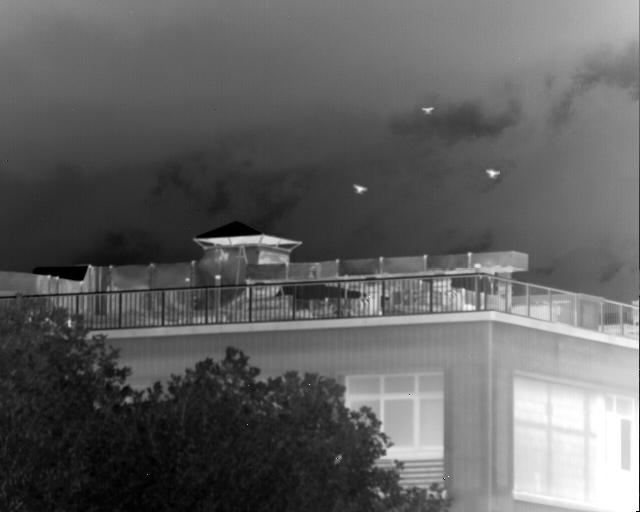plane: (353, 182, 367, 193), (486, 168, 500, 177), (422, 106, 435, 113)
